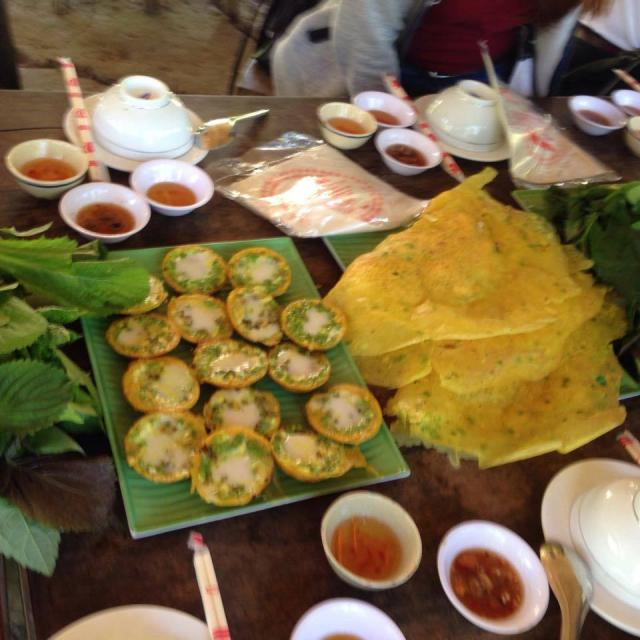banh khot: (96, 244, 387, 511)
banh xeo: (338, 175, 632, 458)
